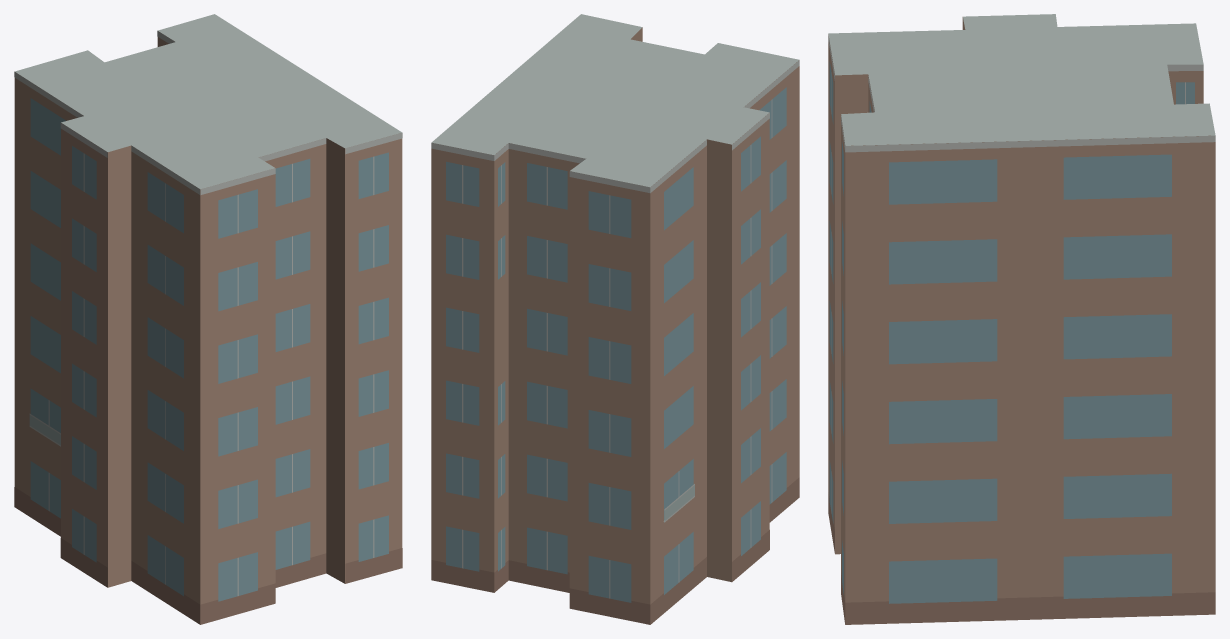
File: survey-upis-32977048.glb
3 renders of one model, left to right at view 1: azimuth 30°, elevation 25°; view 2: azimuth 150°, elevation 25°; view 3: azimuth 270°, elevation 25°, orthographic. The views are drawn at different scales.
Parts seen in each view (by area): view 1: survey-upis-32977048.tmp; view 2: survey-upis-32977048.tmp; view 3: survey-upis-32977048.tmp.
Part boxes in pixels (x1=…): survey-upis-32977048.tmp: x1=14, y1=14, x2=402, y2=624; survey-upis-32977048.tmp: x1=431, y1=14, x2=799, y2=624; survey-upis-32977048.tmp: x1=828, y1=14, x2=1215, y2=624.
Size of the model in its own units: 10.61 by 17.95 by 13.17.
